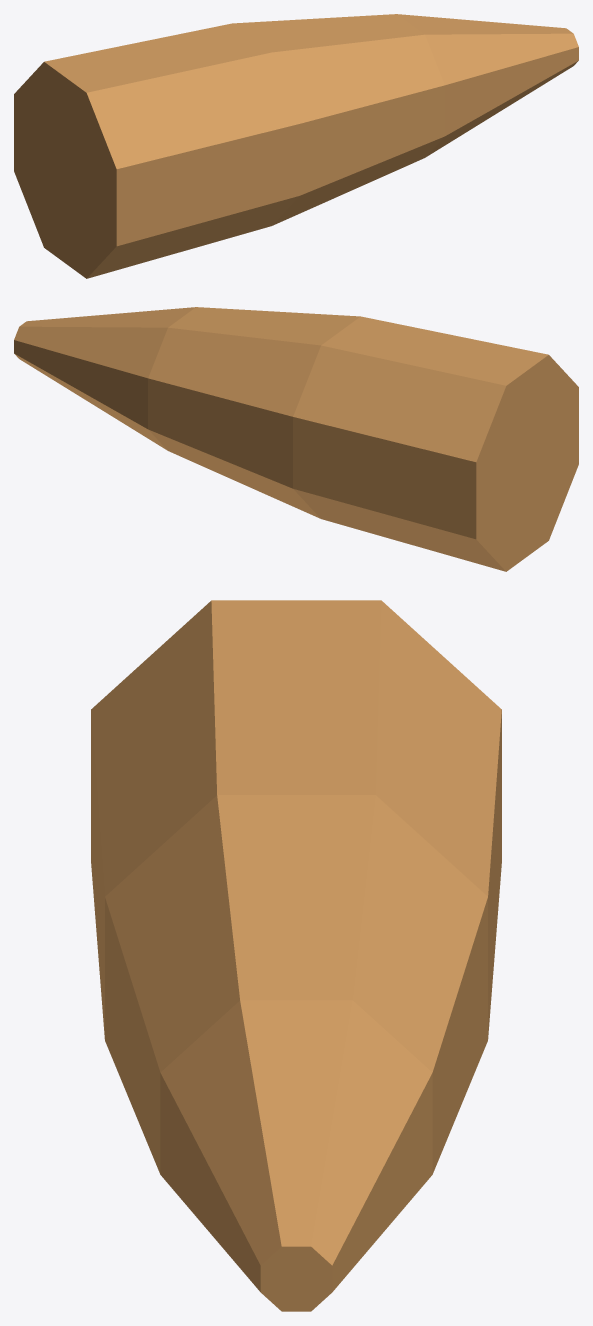
Rendered from Bullet_06.fbx.
The picture shows the model from 3 angles, top to bottom: view 1: azimuth 30°, elevation 25°; view 2: azimuth 150°, elevation 25°; view 3: azimuth 270°, elevation 25°; orthographic projection. The views are drawn at different scales.
Visible parts, largest first — view 1: Bullet_06; view 2: Bullet_06; view 3: Bullet_06.
Boxes of the visible parts, bbox=[...] form: Bullet_06: bbox=[14, 14, 578, 278]; Bullet_06: bbox=[14, 307, 578, 571]; Bullet_06: bbox=[91, 600, 501, 1311].
Size of the model in its own units: 0.0332 by 0.0117 by 0.0117.
